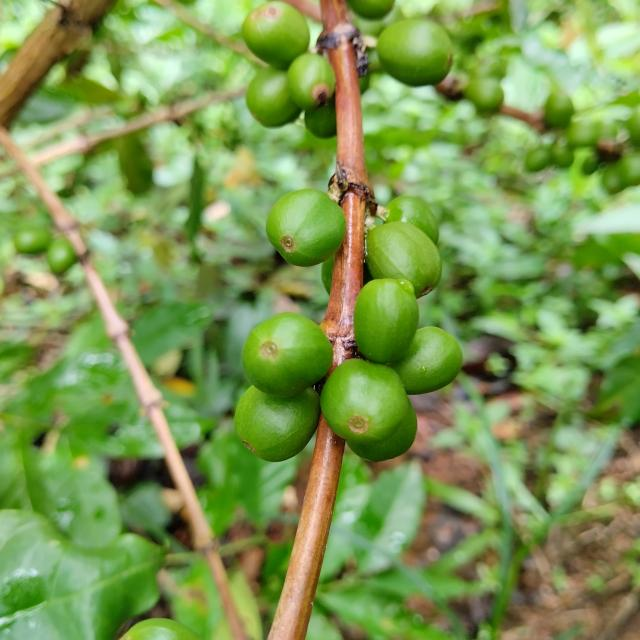green: (242, 313, 333, 398), (320, 359, 409, 445), (234, 386, 320, 462), (266, 188, 346, 266), (366, 221, 442, 298), (354, 278, 419, 363), (390, 327, 463, 395), (347, 399, 418, 463), (386, 196, 439, 245)
